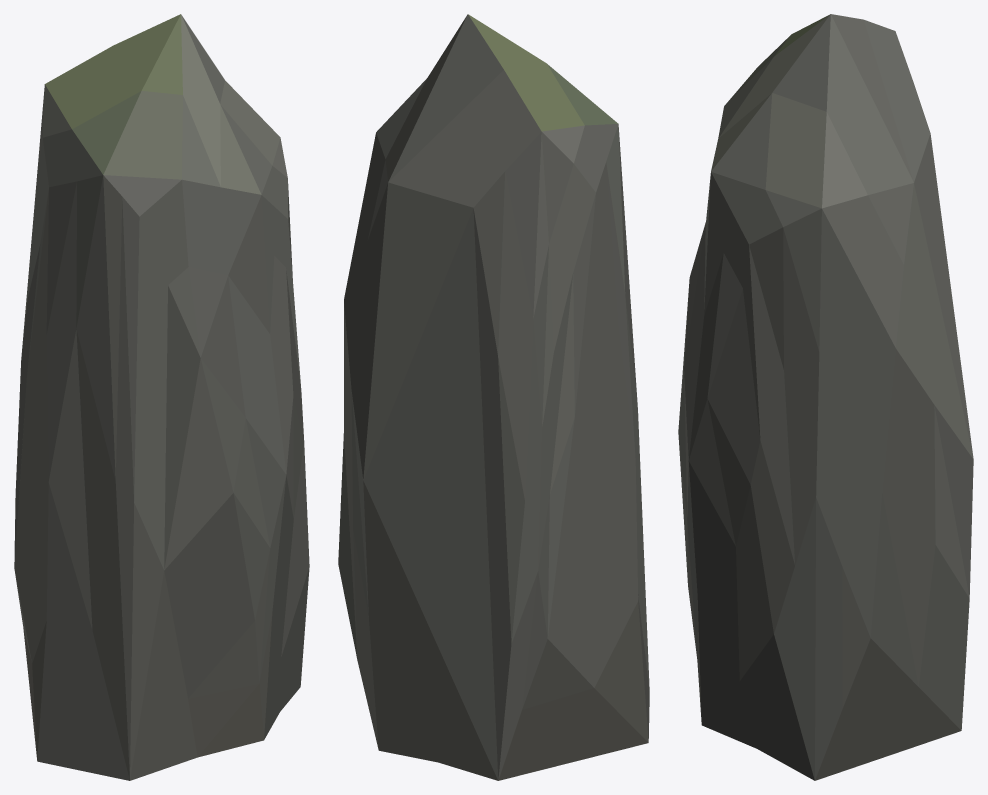
The model's file is rock_post.glb.
3 views of the same model, side by side, from view 1: azimuth 30°, elevation 25°; view 2: azimuth 150°, elevation 25°; view 3: azimuth 270°, elevation 25° (orthographic). The views are drawn at different scales.
Visible parts, largest first — view 1: rock_post; view 2: rock_post; view 3: rock_post.
Boxes of the visible parts, x1,y1,x2,y2 form: rock_post: (14, 14, 309, 780); rock_post: (338, 14, 649, 780); rock_post: (678, 14, 973, 780).
Size of the model in its own units: 0.7493 by 1.82 by 0.6849.
